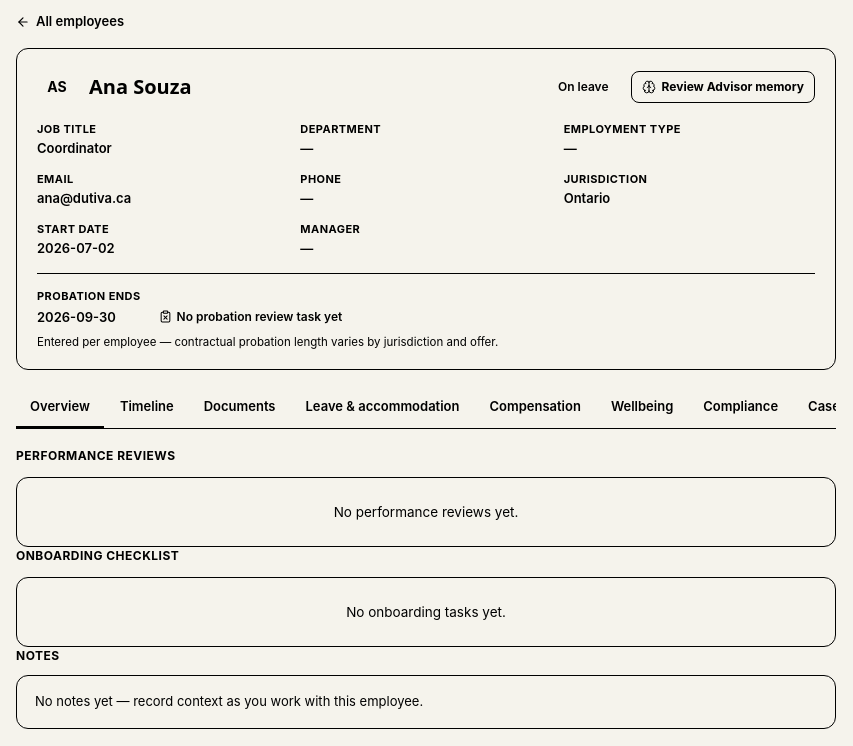
Test: EmployeeProfileProductionView for a non-admin member › renders the record read-only: no forms, no remove/end buttons, no date inputs
The width and height of the screenshot is (853, 746).
Expected: the heading "Ana Souza" is shown, x1=89 y1=73 x2=192 y2=100
Click the tab "Leave & accommodation" at (382, 408), box x1=292 y1=388 x2=474 y2=428
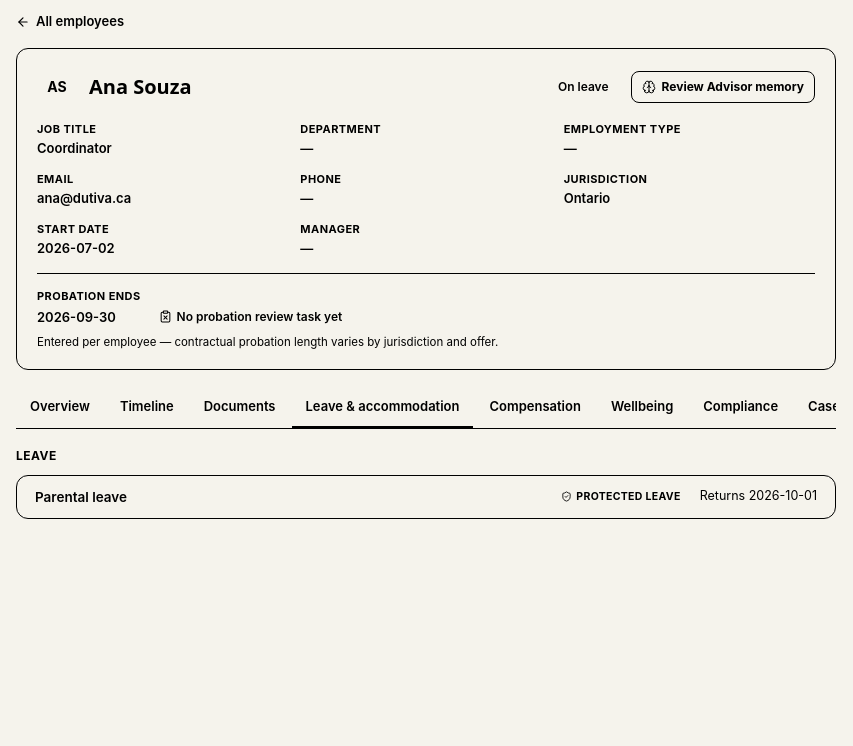
Expected: the text "2026-09-30" is shown, x1=37 y1=309 x2=116 y2=325
Expected: the text "Parental leave" is shown, x1=35 y1=488 x2=127 y2=504
